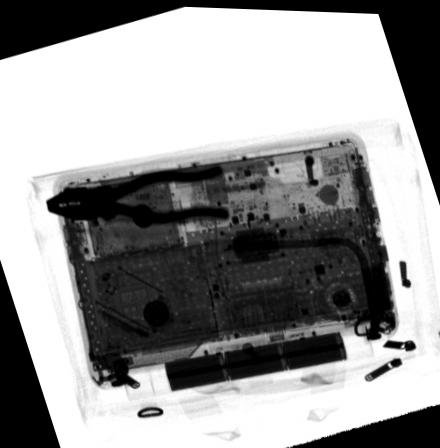Pliers: (44, 161, 232, 225)
